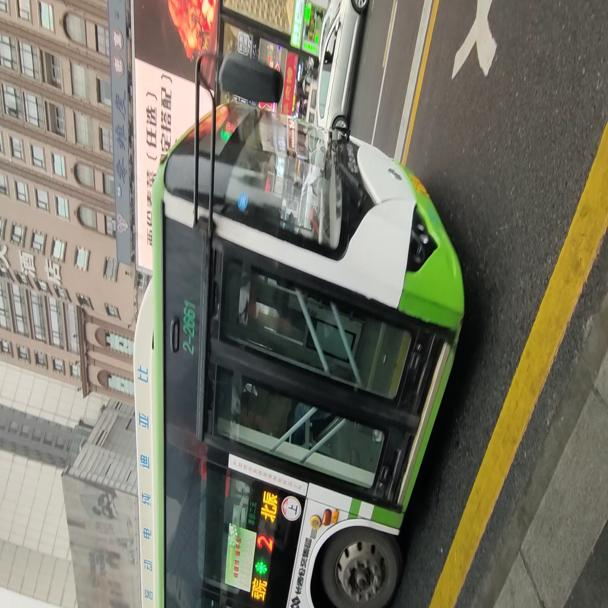bus: (136, 51, 465, 605)
screen: (255, 527, 272, 550)
